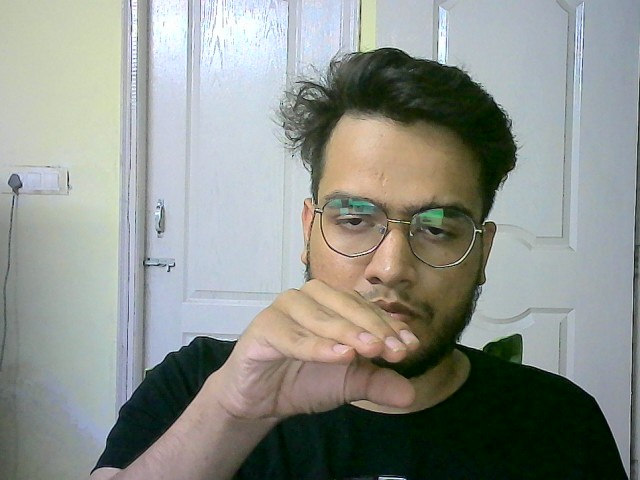No: (211, 273, 421, 425)
